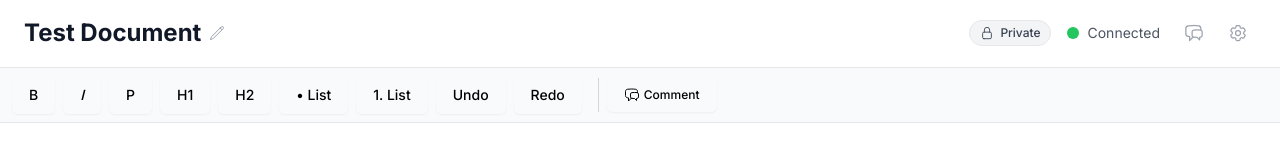
Scenario: Document Page - Title Editing › enters edit mode when title is clicked
The image size is (1280, 160).
Expected: the heading "Test Document" is shown, [24, 17, 201, 49]
Click the element showing "Test Document" at coordinates (125, 32), box [24, 18, 225, 47]
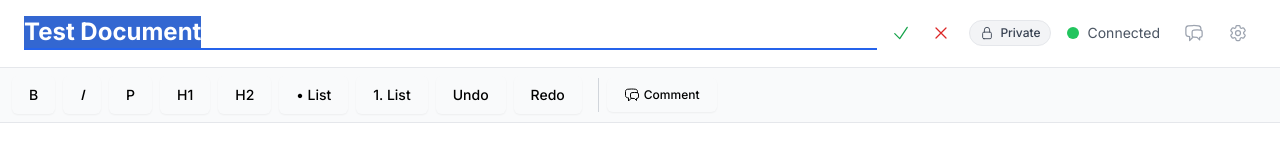
Result: the field showing "Test Document" is shown at [24, 16, 877, 50]
